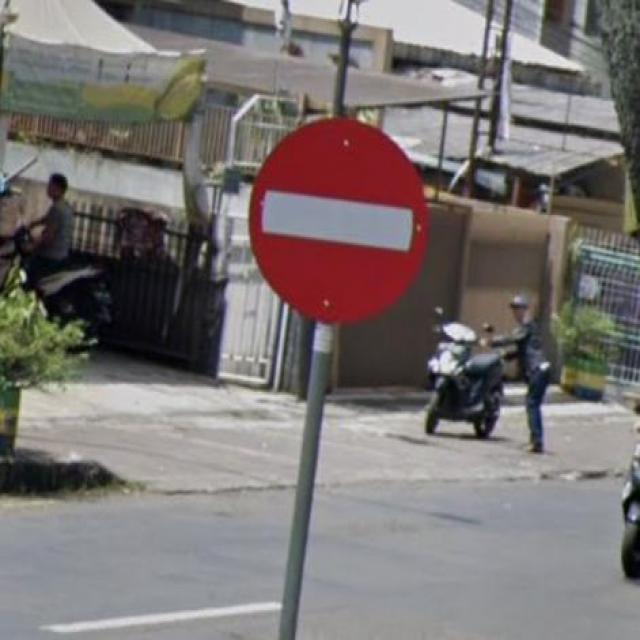traffic sign: (249, 122, 431, 324)
